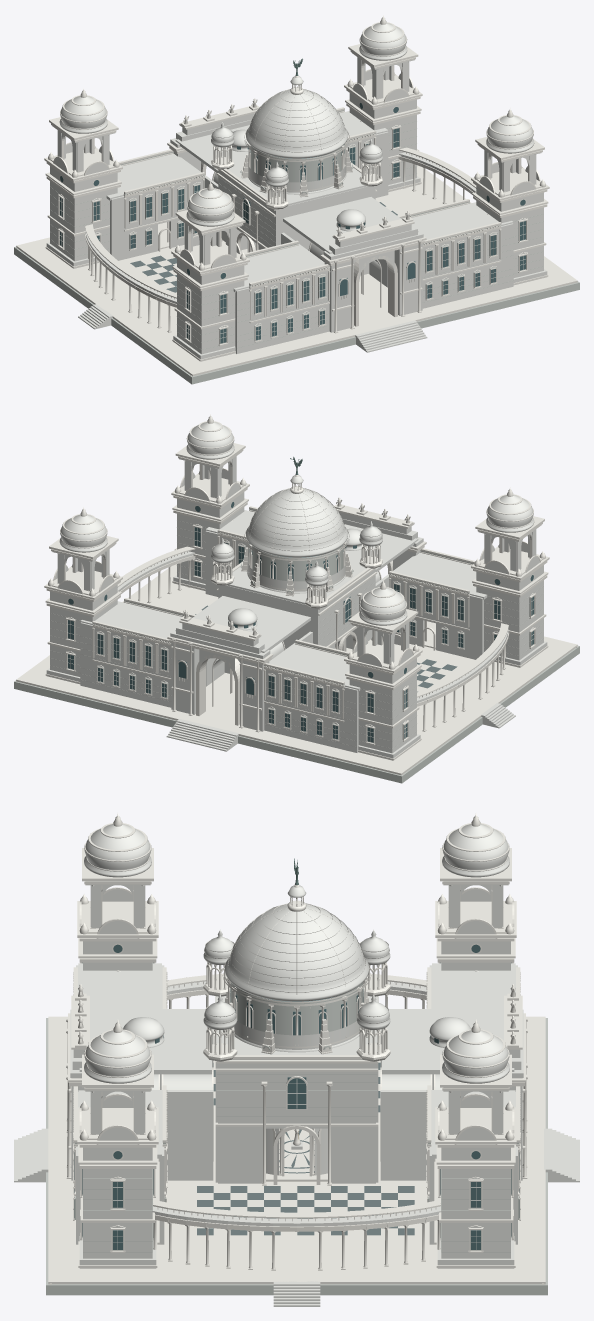
The model's file is VictoriaMemorial_Architecture.fbx.
3 views of the same model, one above another, from view 1: azimuth 30°, elevation 25°; view 2: azimuth 150°, elevation 25°; view 3: azimuth 270°, elevation 25° (orthographic). The views are drawn at different scales.
Parts seen in each view (by area): view 1: MarbleTerrace_Export, CornerTower_-105_1__Marble_Export, CornerTower_-105_-1__Marble_Export, CentralDome__Marble.001_Export, CornerTower_105_1__Marble_Export, CornerTower_105_-1__Marble_Export, SouthPortal__Marble_Export, TerraceFoundation_Export, WingOuterWall.002_Export, WingOuterWall.003_Export, CornerTower_-105_1__Trim_Export, CornerTower_-105_-1__Trim_Export (+42 smaller); view 2: MarbleTerrace_Export, CornerTower_-105_-1__Marble_Export, CornerTower_-105_1__Marble_Export, CentralDome__Marble.001_Export, CornerTower_105_-1__Marble_Export, CornerTower_105_1__Marble_Export, NorthPortal__Marble_Export, TerraceFoundation_Export, WingOuterWall_Export, WingOuterWall.001_Export, CornerTower_-105_-1__Trim_Export, CornerTower_-105_1__Trim_Export (+41 smaller); view 3: MarbleTerrace_Export, CornerTower_105_-1__Marble_Export, CornerTower_105_1__Marble_Export, CentralDome__Marble.001_Export, RotundaUpperWall.002_Export, TerraceFoundation_Export, CornerTower_105_-1__Trim_Export, CornerTower_105_1__Trim_Export, CornerTower_-105_-1__Marble_Export, CornerTower_-105_1__Marble_Export, CurvedColonnade_1__Trim_Export, CornerTower_-105_-1__Trim_Export (+41 smaller).
Boxes of the visible parts, left/top/right/bottom form: MarbleTerrace_Export: left=16, top=165, right=577, bottom=376; CornerTower_-105_1__Marble_Export: left=173, top=189, right=244, bottom=361; CornerTower_-105_-1__Marble_Export: left=46, top=96, right=117, bottom=268; CentralDome__Marble.001_Export: left=246, top=76, right=347, bottom=158; CornerTower_105_1__Marble_Export: left=476, top=115, right=547, bottom=285; CornerTower_105_-1__Marble_Export: left=349, top=23, right=420, bottom=191; SouthPortal__Marble_Export: left=323, top=224, right=423, bottom=332; TerraceFoundation_Export: left=14, top=246, right=579, bottom=384; WingOuterWall.002_Export: left=235, top=270, right=329, bottom=353; WingOuterWall.003_Export: left=422, top=223, right=513, bottom=308; CornerTower_-105_1__Trim_Export: left=171, top=181, right=249, bottom=361; CornerTower_-105_-1__Trim_Export: left=44, top=88, right=122, bottom=268; MarbleTerrace_Export: left=16, top=564, right=577, bottom=775; CornerTower_-105_-1__Marble_Export: left=349, top=588, right=420, bottom=760; CornerTower_-105_1__Marble_Export: left=476, top=495, right=547, bottom=667; CentralDome__Marble.001_Export: left=246, top=475, right=347, bottom=557; CornerTower_105_-1__Marble_Export: left=46, top=514, right=117, bottom=684; CornerTower_105_1__Marble_Export: left=173, top=422, right=244, bottom=590; NorthPortal__Marble_Export: left=170, top=623, right=270, bottom=731; TerraceFoundation_Export: left=14, top=645, right=579, bottom=783; WingOuterWall_Export: left=264, top=669, right=358, bottom=752; WingOuterWall.001_Export: left=80, top=622, right=171, bottom=707; CornerTower_-105_-1__Trim_Export: left=344, top=580, right=422, bottom=760; CornerTower_-105_1__Trim_Export: left=471, top=487, right=549, bottom=667; MarbleTerrace_Export: left=48, top=1016, right=545, bottom=1284; CornerTower_105_-1__Marble_Export: left=437, top=1030, right=514, bottom=1268; CornerTower_105_1__Marble_Export: left=79, top=1030, right=156, bottom=1268; CentralDome__Marble.001_Export: left=225, top=885, right=368, bottom=1001; RotundaUpperWall.002_Export: left=215, top=1053, right=378, bottom=1115; TerraceFoundation_Export: left=46, top=1018, right=547, bottom=1295; CornerTower_105_-1__Trim_Export: left=435, top=1019, right=516, bottom=1267; CornerTower_105_1__Trim_Export: left=77, top=1019, right=158, bottom=1267; CornerTower_-105_-1__Marble_Export: left=441, top=824, right=510, bottom=970; CornerTower_-105_1__Marble_Export: left=83, top=824, right=152, bottom=970; CurvedColonnade_1__Trim_Export: left=153, top=1199, right=440, bottom=1270; CornerTower_-105_-1__Trim_Export: left=435, top=813, right=516, bottom=971.
Bounding box in the file's own units: 295 × 143 × 243.
